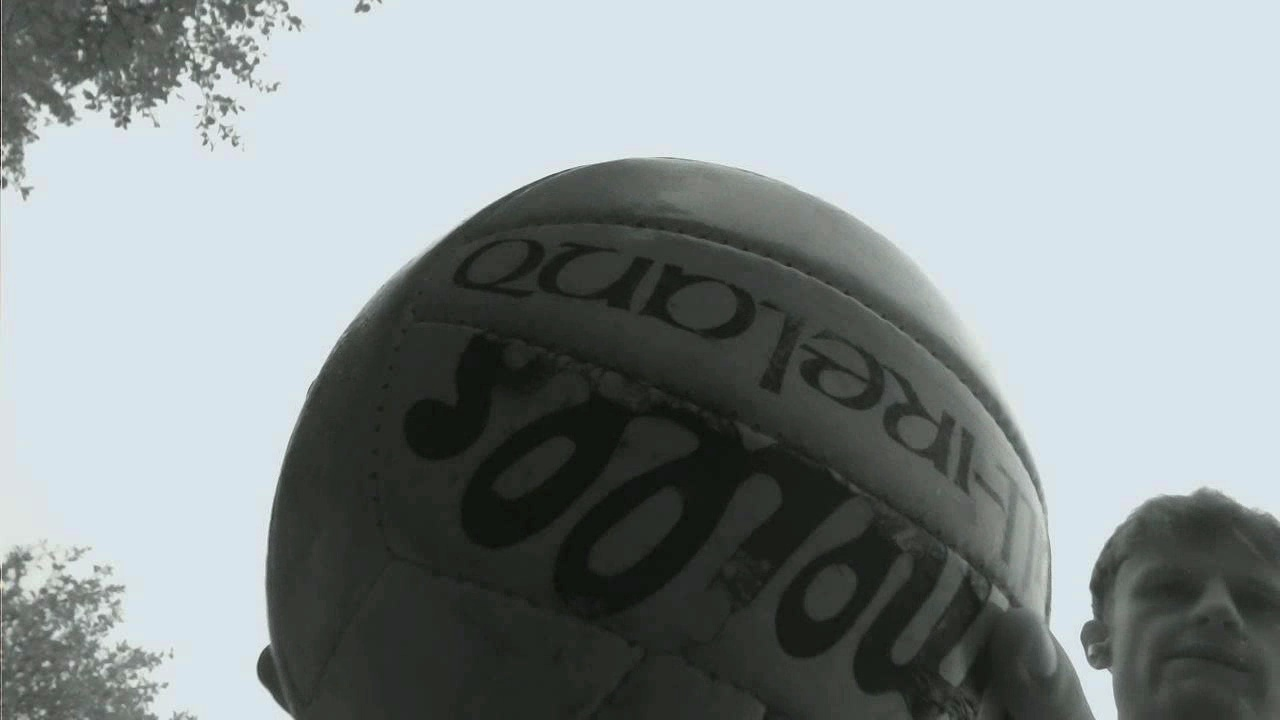Football-Spotter: (266, 159, 1049, 719)
